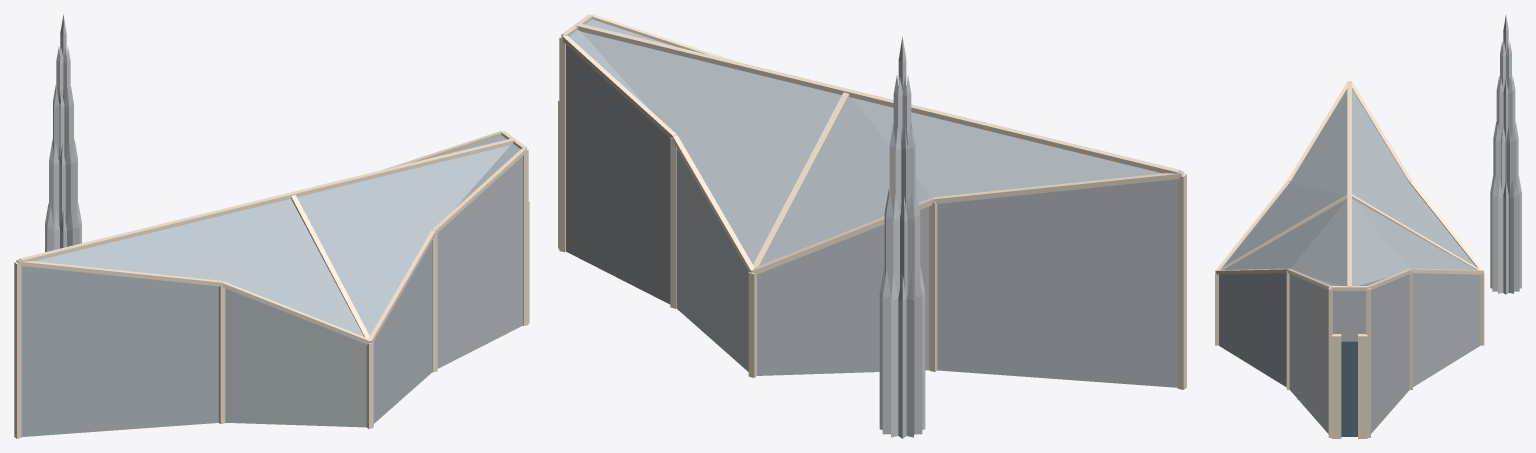
The model's file is detail.glb.
3 renders of one model, left to right at view 1: azimuth 30°, elevation 25°; view 2: azimuth 150°, elevation 25°; view 3: azimuth 270°, elevation 25°, orthographic. The views are drawn at different scales.
Visible parts, largest first — view 1: christ-cathedral; view 2: christ-cathedral; view 3: christ-cathedral.
Boxes of the visible parts, left/top/right/bottom form: christ-cathedral: left=14, top=14, right=529, bottom=438; christ-cathedral: left=558, top=14, right=1186, bottom=438; christ-cathedral: left=1215, top=15, right=1521, bottom=438.
Size of the model in its own units: 118 by 72 by 73.02.
